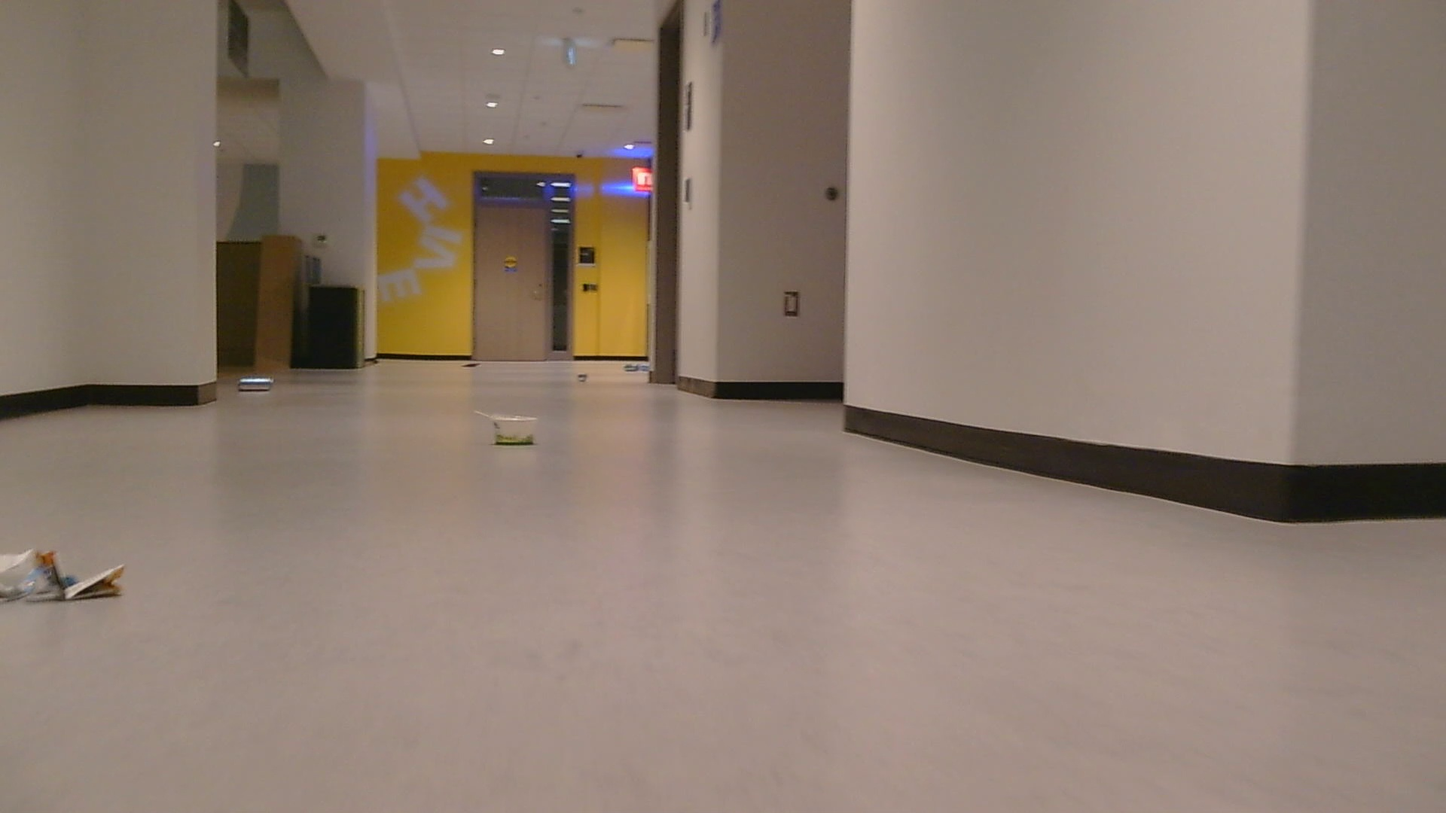carton: (0, 536, 129, 616), (484, 408, 551, 451), (236, 370, 289, 396), (622, 358, 655, 373), (566, 370, 600, 383), (462, 355, 487, 370)
